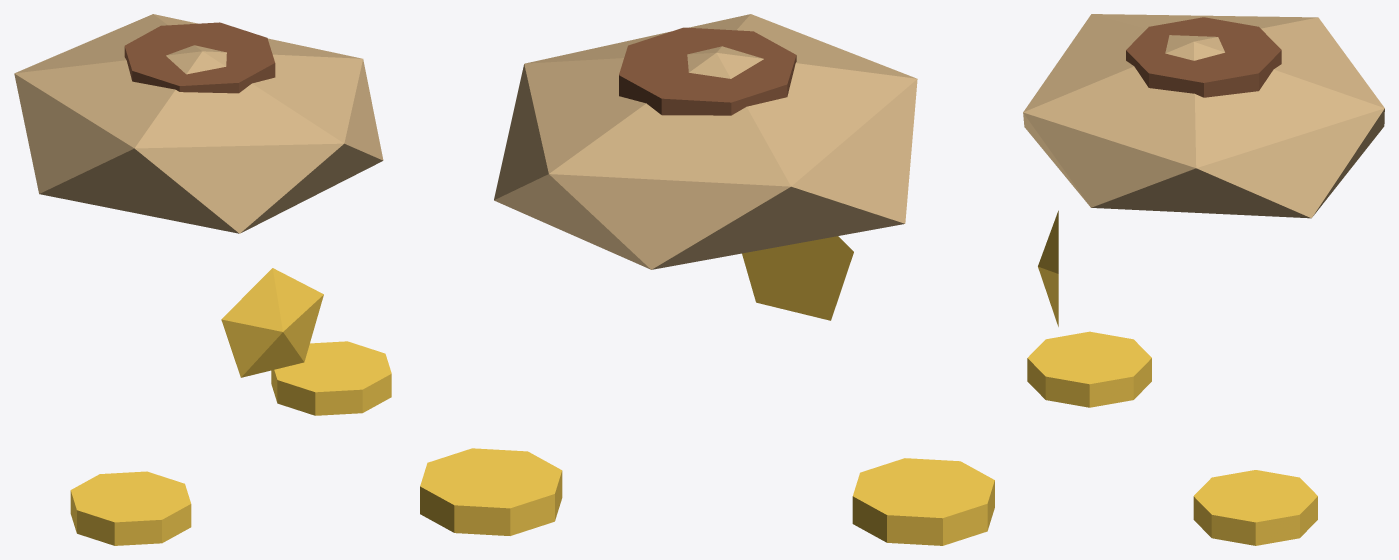
Rendered from SM_Currency_MoneyBag.fbx.
3 renders of one model, left to right at view 1: azimuth 30°, elevation 25°; view 2: azimuth 150°, elevation 25°; view 3: azimuth 270°, elevation 25°, orthographic. The views are drawn at different scales.
Visible parts, largest first — view 1: SM_Currency_MoneyBag; view 2: SM_Currency_MoneyBag; view 3: SM_Currency_MoneyBag.
Part boxes in pixels (left/top/right/bottom): SM_Currency_MoneyBag: left=14, top=14, right=391, bottom=545; SM_Currency_MoneyBag: left=420, top=14, right=994, bottom=545; SM_Currency_MoneyBag: left=1023, top=14, right=1384, bottom=545.
Size of the model in its own units: 0.87 by 0.8504 by 0.6972.
